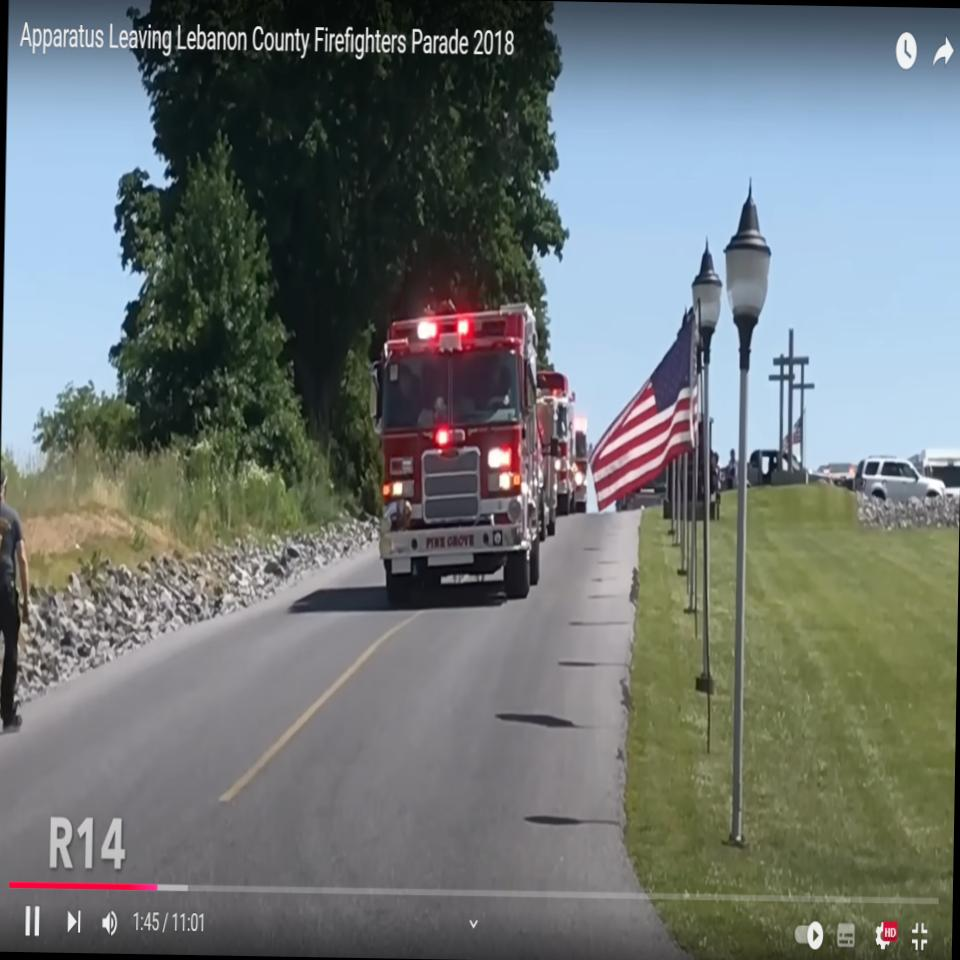viatura: (366, 293, 551, 609)
